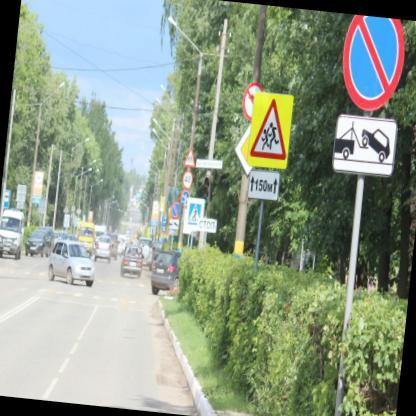obstructed_road_sign: (236, 125, 253, 174), (243, 82, 266, 118), (184, 198, 205, 230)
road_sign: (343, 15, 404, 109), (334, 114, 397, 176), (248, 94, 294, 170), (249, 170, 279, 199), (197, 217, 217, 233), (182, 147, 196, 167), (183, 171, 193, 190), (171, 201, 180, 218)
